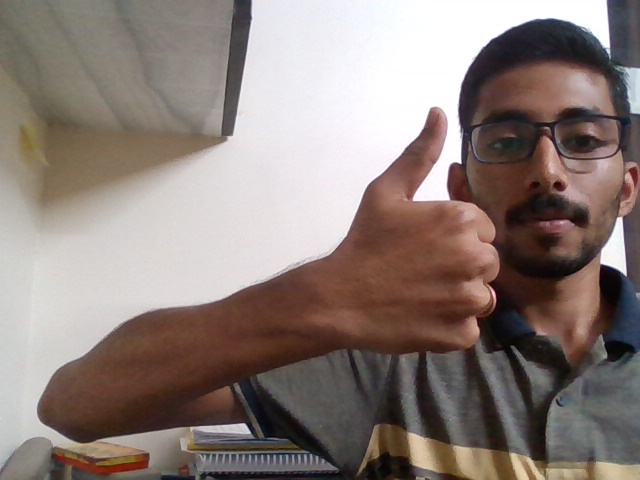Yes: (306, 98, 512, 385)
